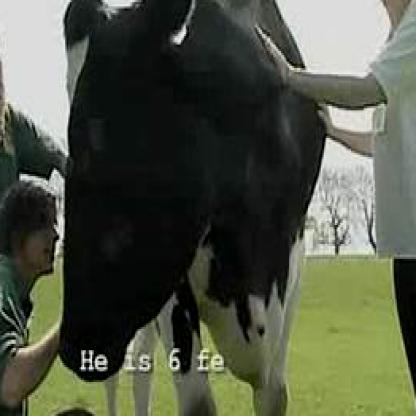cow: (57, 0, 332, 414)
